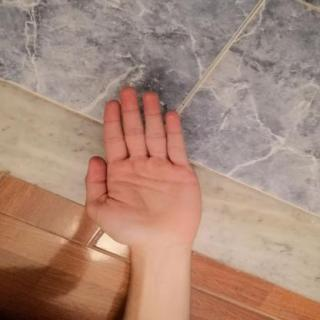SEEN: (76, 80, 210, 255)
